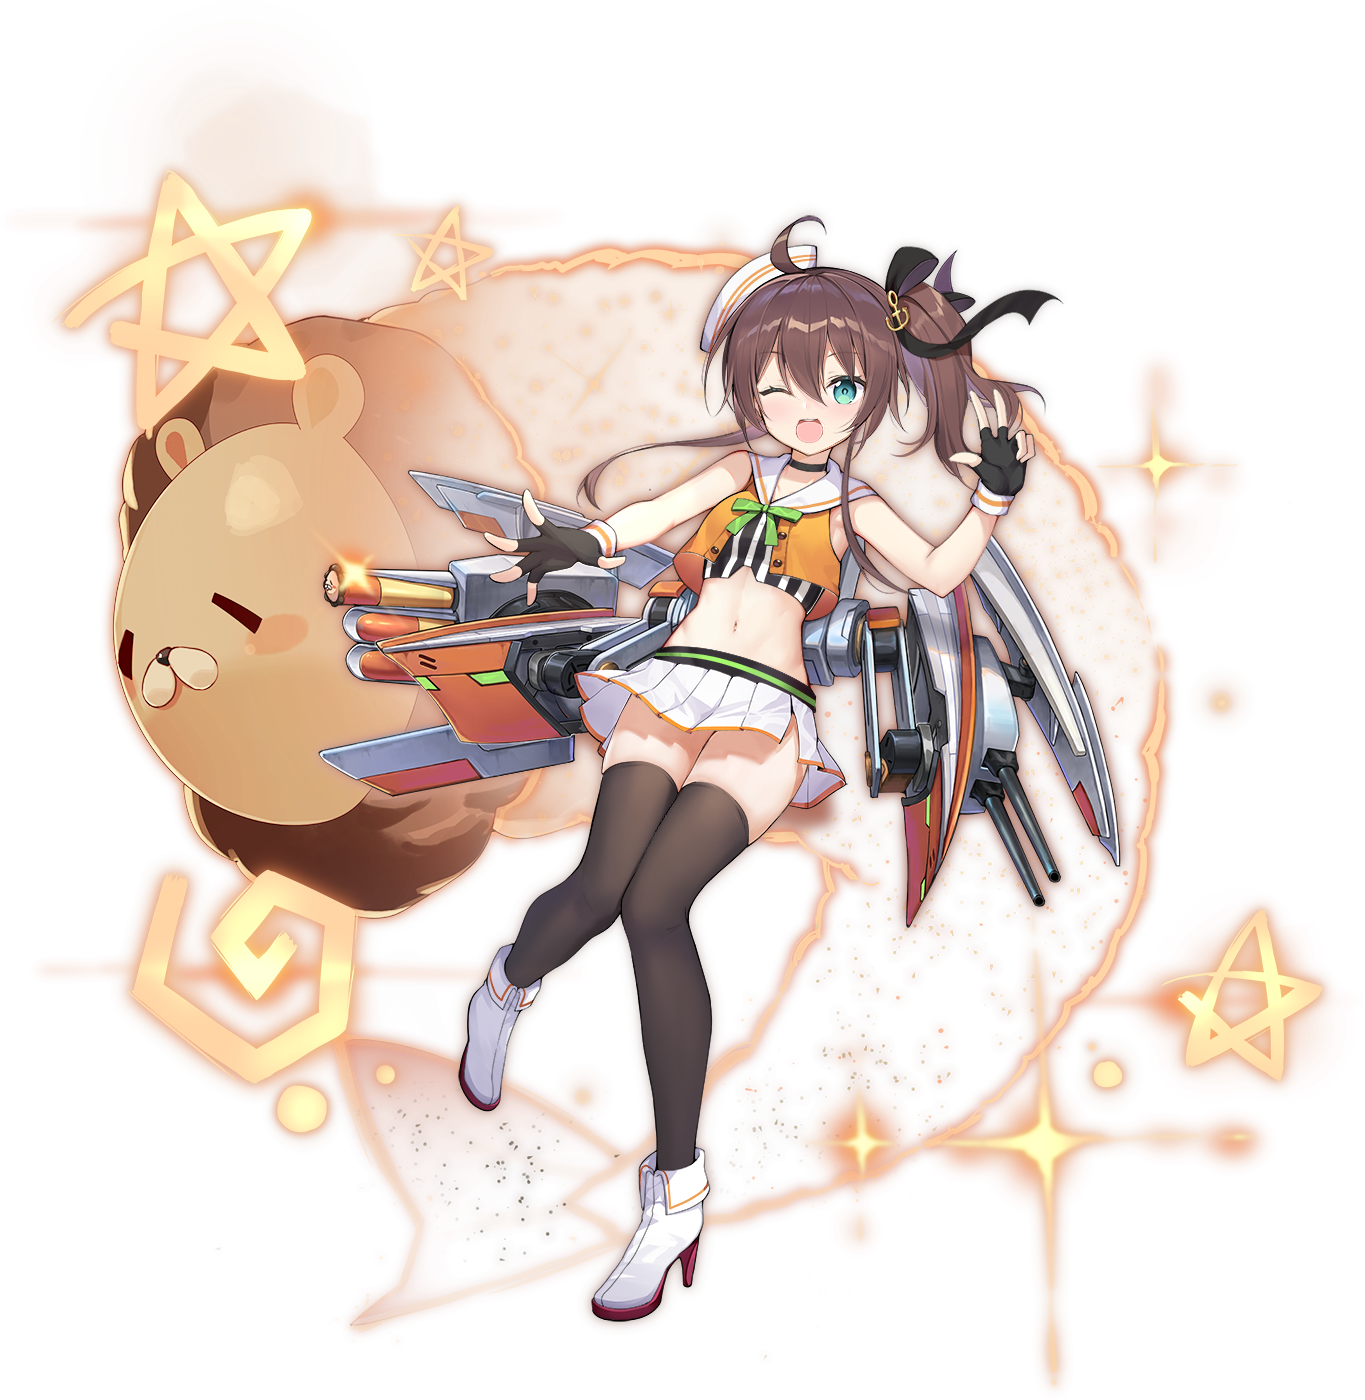person: (460, 269, 874, 1108)
